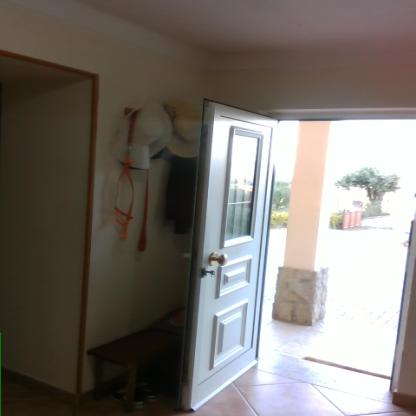open: (192, 93, 416, 416)
